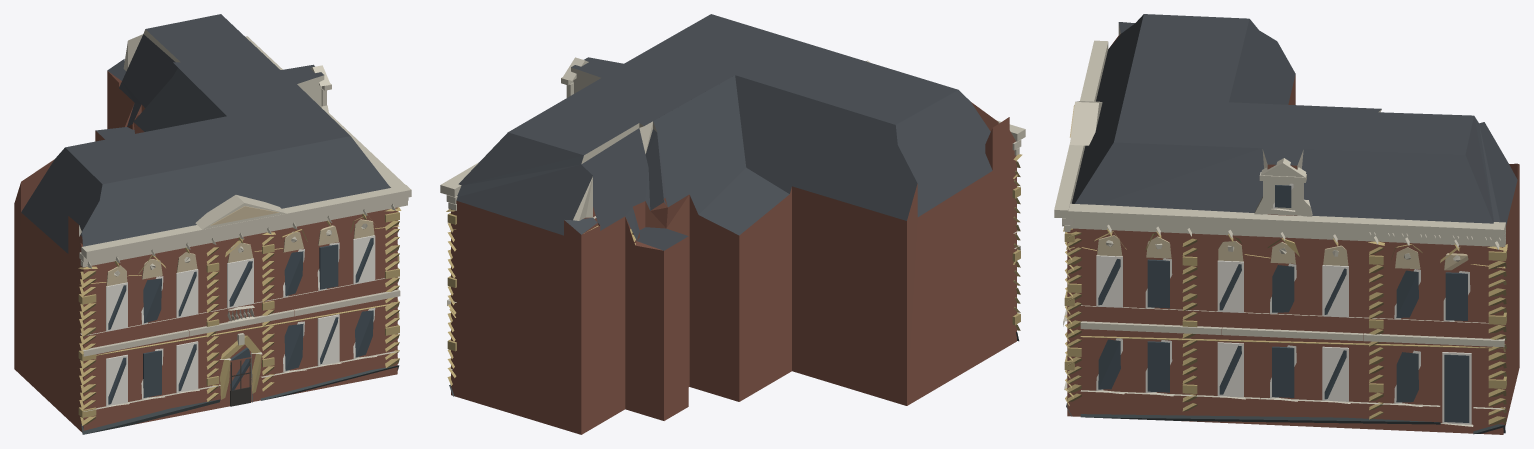
The model's file is muziekschool-jacob-van-campen.lod1.glb.
3 renders of one model, left to right at view 1: azimuth 30°, elevation 25°; view 2: azimuth 150°, elevation 25°; view 3: azimuth 270°, elevation 25°, orthographic. The views are drawn at different scales.
Visible parts, largest first — view 1: muziekschool-jacob-van-campen; view 2: muziekschool-jacob-van-campen; view 3: muziekschool-jacob-van-campen.
Boxes of the visible parts, x1,y1,x2,y2 form: muziekschool-jacob-van-campen: (14, 14, 411, 434); muziekschool-jacob-van-campen: (440, 14, 1025, 434); muziekschool-jacob-van-campen: (1054, 14, 1519, 434).
Size of the model in its own units: 23.09 by 15.05 by 24.01.
